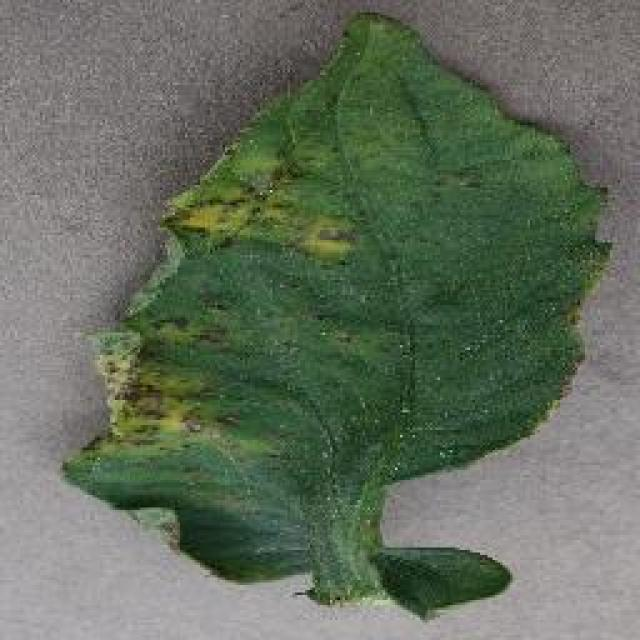bacterial spot: (54, 18, 614, 617)
